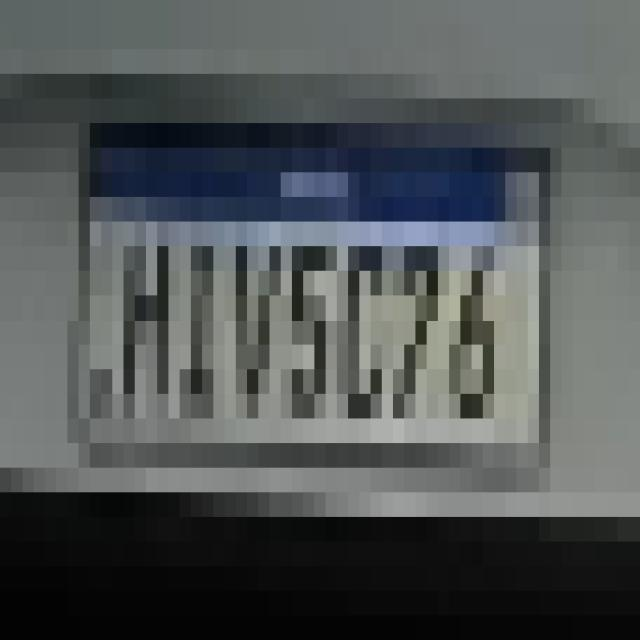Placa_mercosul_carro: (86, 123, 558, 475)
